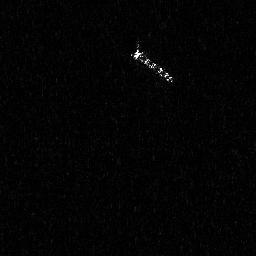ship: (128, 45, 174, 85)
